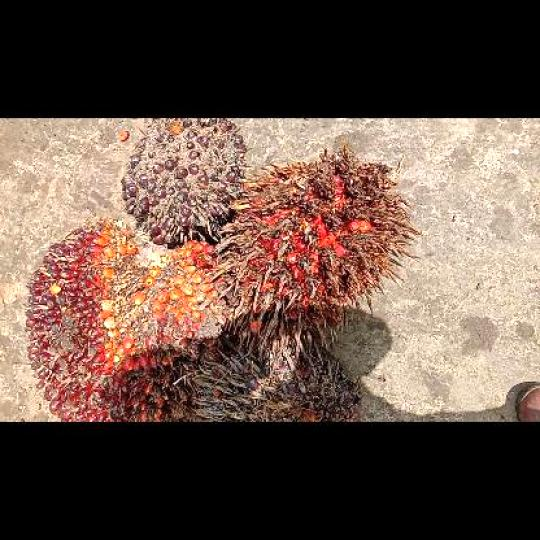kurang masak: (118, 117, 245, 246)
masak: (25, 218, 224, 421)
terlalu masak: (223, 147, 418, 328)
